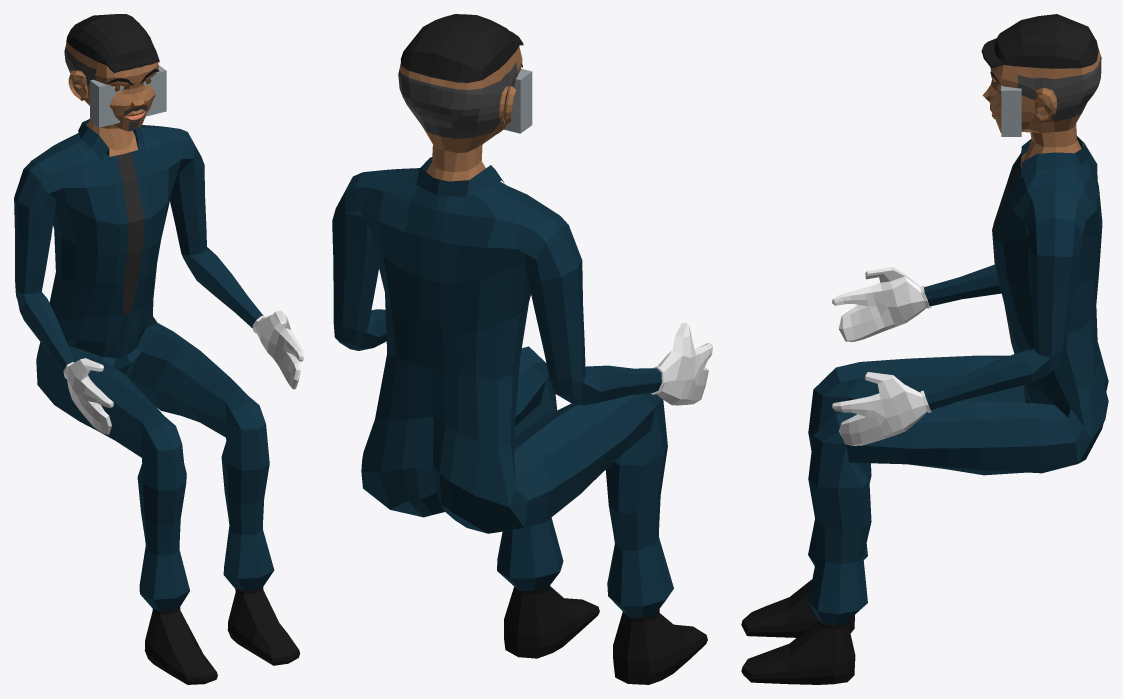
The model's file is Mechanic_Sit_Mask.fbx.
The picture shows the model from 3 angles, left to right: view 1: azimuth 30°, elevation 25°; view 2: azimuth 150°, elevation 25°; view 3: azimuth 270°, elevation 25°; orthographic projection. The views are drawn at different scales.
Visible parts, largest first — view 1: Mechanic_Sit_Mask; view 2: Mechanic_Sit_Mask; view 3: Mechanic_Sit_Mask.
Boxes of the visible parts, x1,y1,x2,y2 form: Mechanic_Sit_Mask: (14,14,303,684); Mechanic_Sit_Mask: (332,14,712,684); Mechanic_Sit_Mask: (741,14,1108,684).
Bounding box in the file's own units: 0.2997 × 0.7506 × 0.3957.
